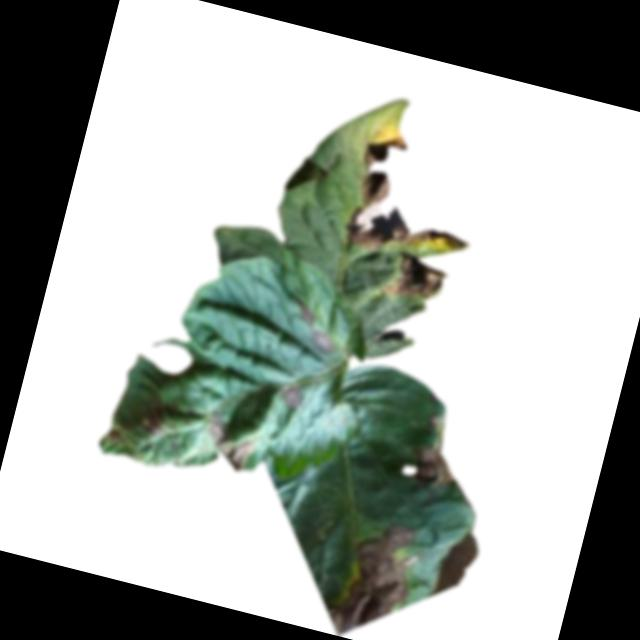Early_blight: (336, 118, 493, 271), (325, 511, 426, 640), (379, 248, 451, 310), (199, 412, 263, 475), (405, 435, 465, 493), (288, 302, 346, 355), (131, 403, 171, 440), (278, 378, 307, 410), (105, 425, 126, 444)
